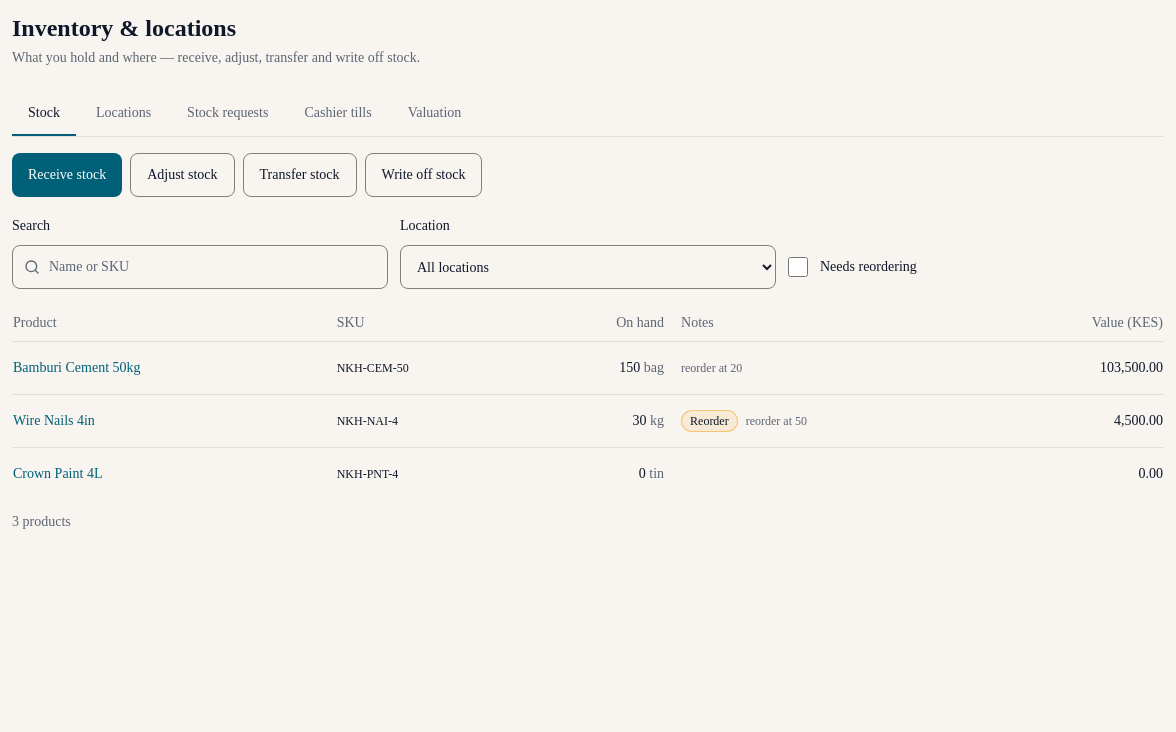
the stock list › needs reordering: the server's rule, business-wide
Expected: the table named "Stock" is shown, [12,305,1164,500]
Click the checkbox labelled "Needs reordering".
click(798, 267)  # box [788,257,808,277]
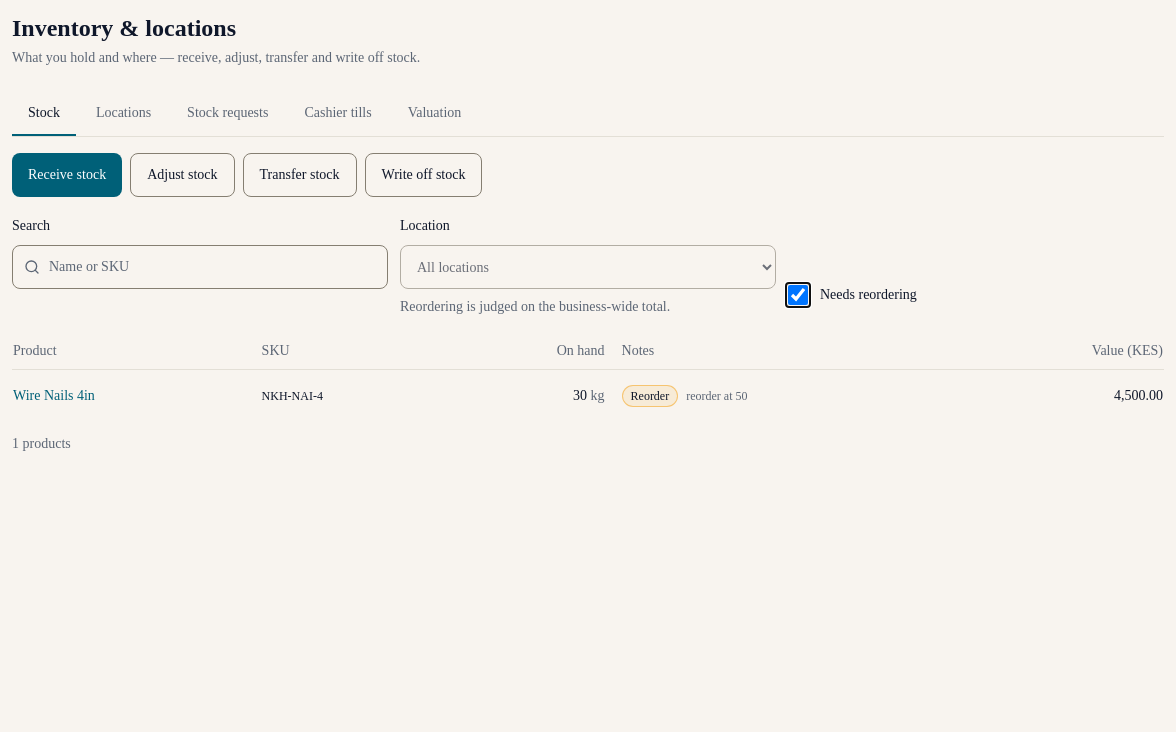
Expected: the number of rows is 2, [12,333,1164,370]; [12,370,1164,422]
Expected: the dropdown labelled "Location" is disabled, [400,245,776,289]
Expected: the text "Reordering is judged on the business-wide total." is shown, [400,299,670,314]
